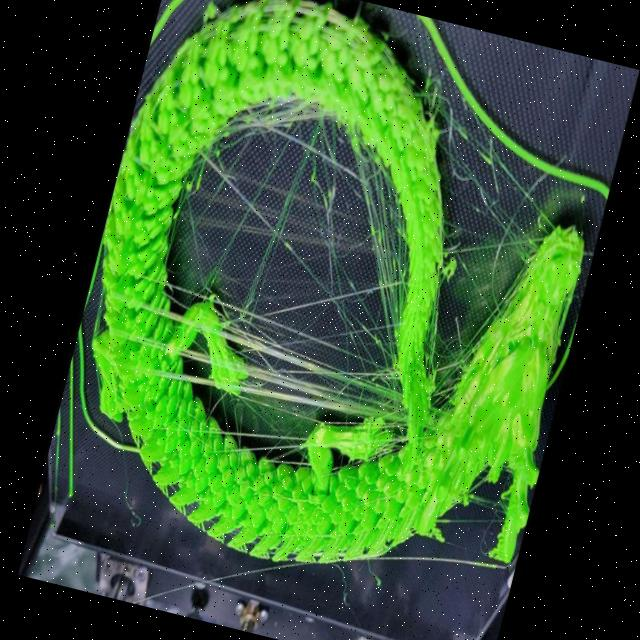stringing: (162, 275, 404, 430), (422, 80, 557, 266), (346, 129, 407, 429), (425, 287, 502, 409), (220, 100, 337, 142)
